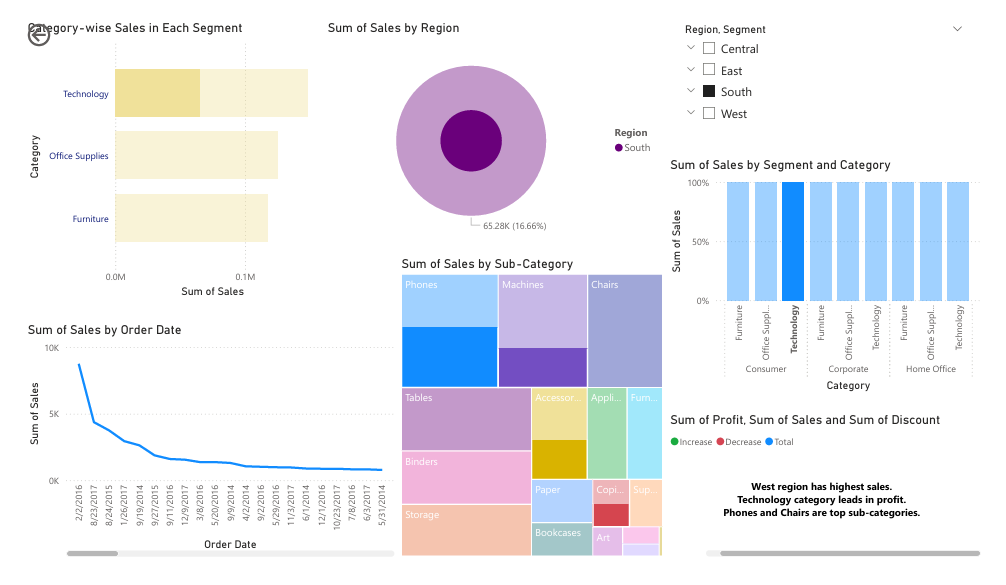

The dashboard page shown, as its layout file describes it:
{"tool":"powerbi","page":{"name":"Page 1","canvas":[1280,720],"ordinal":0},"visuals":[{"type":"barChart","title":"Category-wise Sales in Each Segment","fields":{"Y":["Sum(Sample - Superstore.Sales)"],"Category":["Sample - Superstore.Category"]},"box":[0,0,400.2,375.2],"z":0},{"type":"lineChart","fields":{"Category":["Sample - Superstore.Order Date"],"Y":["Sum(Sample - Superstore.Sales)"]},"box":[0,403.3,498.7,317.3],"z":1000},{"type":"pieChart","fields":{"Category":["Sample - Superstore.Region"],"Y":["Sum(Sample - Superstore.Sales)"]},"box":[400.2,0,456.5,303.3],"z":2000},{"type":"treemap","fields":{"Group":["Sample - Superstore.Sub-Category"],"Values":["Sum(Sample - Superstore.Sales)"]},"box":[498.7,315.8,358,404.9],"z":3000},{"type":"actionButton","box":[0,0,100,40],"z":4000},{"type":"slicer","fields":{"Values":["Sample - Superstore.Region","Sample - Superstore.Segment"]},"box":[867.6,0,395.5,182.9],"z":5000},{"type":"hundredPercentStackedColumnChart","fields":{"Category":["Sample - Superstore.Segment","Sample - Superstore.Category"],"Y":["Sum(Sample - Superstore.Sales)"]},"box":[856.7,182.9,423.6,317.3],"z":6000},{"type":"waterfallChart","fields":{"Y":["Sum(Sample - Superstore.Profit)"]},"box":[856.7,523.7,423.6,197],"z":7000},{"type":"textbox","box":[912,608,304,64],"z":8000}]}

Visuals, with their boxes on the page's 1280x720 design canvas (x1, y1, x2, y2). These are canvas units, not pixel positions in the 1006x585 screenshot, which may show the page scaled, cropped or inside an application window:
"Category-wise Sales in Each Segment" barChart: box(0, 0, 400, 375)
lineChart - Sample - Superstore.Order Date x Sum(Sample - Superstore.Sales): box(0, 403, 499, 721)
pieChart - Sample - Superstore.Region x Sum(Sample - Superstore.Sales): box(400, 0, 857, 303)
treemap - Sample - Superstore.Sub-Category x Sum(Sample - Superstore.Sales): box(499, 316, 857, 721)
actionButton: box(0, 0, 100, 40)
slicer - Sample - Superstore.Region x Sample - Superstore.Segment: box(868, 0, 1263, 183)
hundredPercentStackedColumnChart - Sample - Superstore.Segment x Sample - Superstore.Category: box(857, 183, 1280, 500)
waterfallChart - Sum(Sample - Superstore.Profit): box(857, 524, 1280, 721)
textbox: box(912, 608, 1216, 672)
